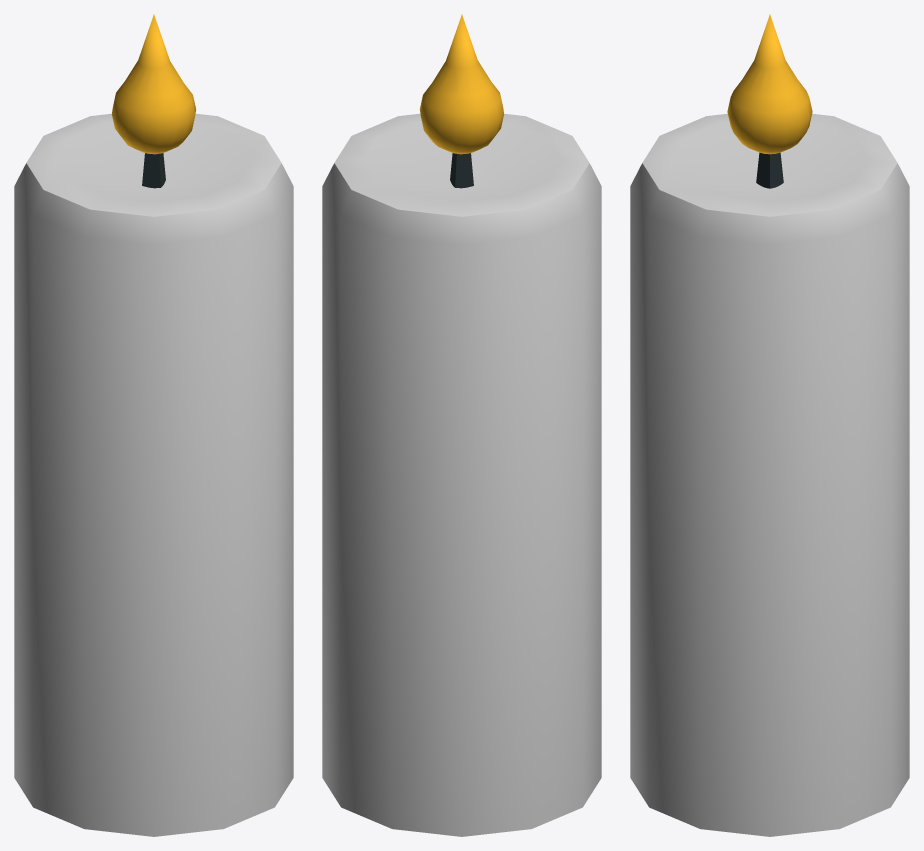
Rendered from candle.gltf.
The picture shows the model from 3 angles, left to right: view 1: azimuth 30°, elevation 25°; view 2: azimuth 150°, elevation 25°; view 3: azimuth 270°, elevation 25°; orthographic projection.
Visible parts, largest first — view 1: candleLarge; view 2: candleLarge; view 3: candleLarge.
Part boxes in pixels (box(x1,y1,x2,y2)): candleLarge: box(14, 14, 293, 836); candleLarge: box(322, 14, 601, 836); candleLarge: box(630, 14, 909, 836).
Size of the model in its own units: 0.2779 by 0.8393 by 0.2779.
